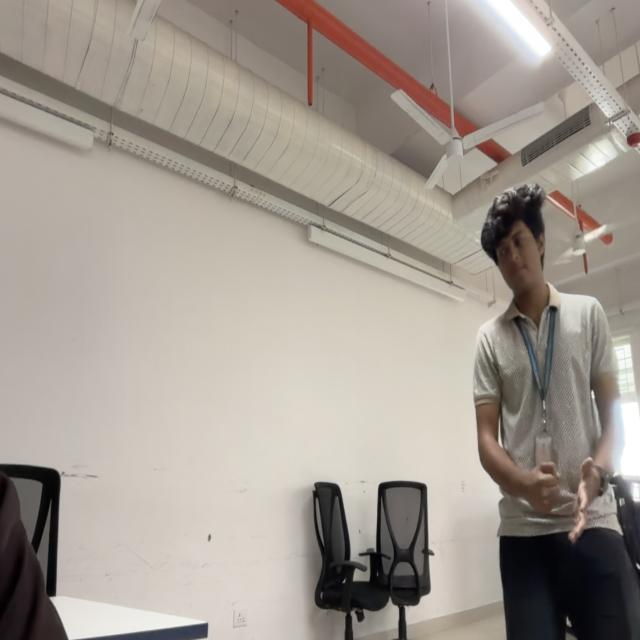kshitij: (482, 184, 550, 296)
